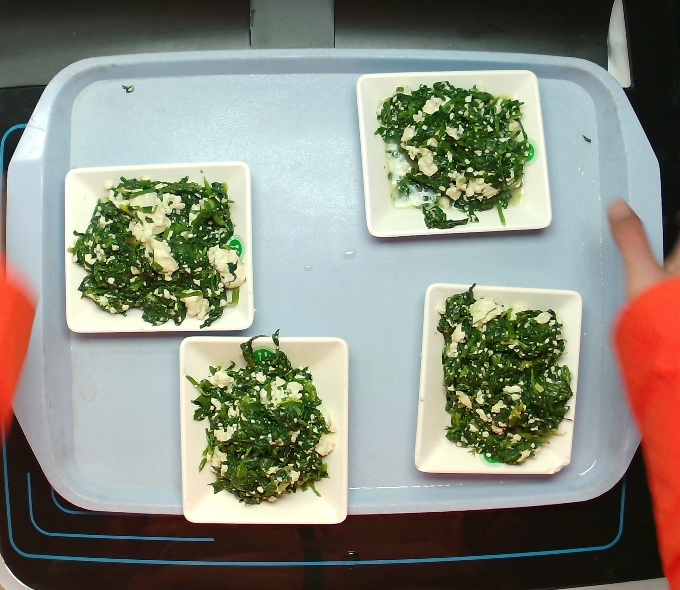wcq-QinCaiYeDouFu: (67, 166, 252, 330), (368, 72, 541, 233), (183, 344, 350, 502), (428, 286, 575, 465)
